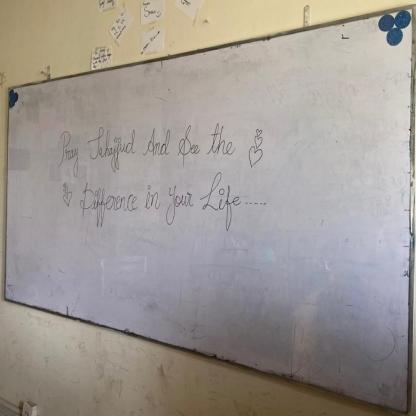Handwritten text: (73, 172, 241, 243), (55, 125, 234, 168)
Whiteboard: (3, 5, 413, 416)
